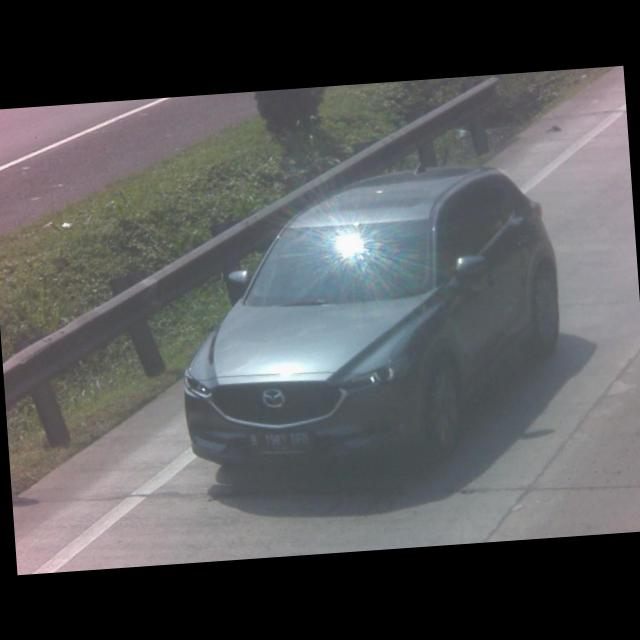plate: (248, 424, 316, 456)
